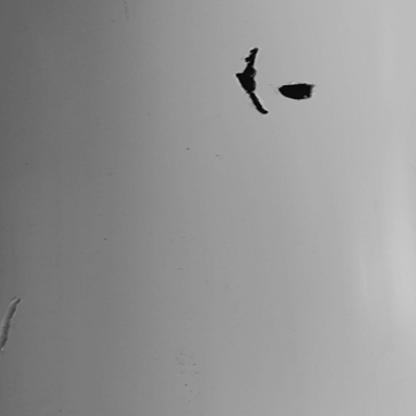kongdong: (230, 46, 271, 118), (278, 81, 314, 102)
sunshang: (1, 295, 23, 355)
